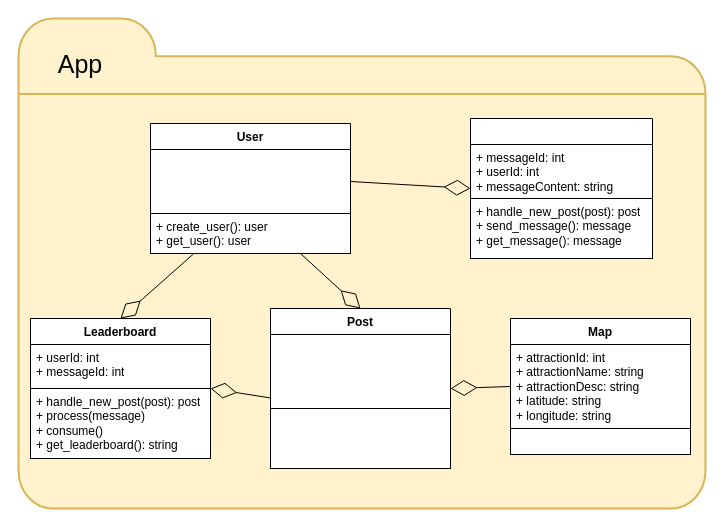
Some shapes in this 723 by 526 pixel diagram are drawn without their labels. The shapes that lost their labels are listed below. From the top down, each one's box as (x1, y1, x2, y2) in pixels, then its label:
(150, 148, 350, 214): + userId: int + userEmail: string + userPassword: encrypted_string
(470, 118, 652, 258): Chat
(270, 334, 450, 408): + postId: int + userId: int + attractionId: int + postContent: string
(270, 408, 450, 468): + create_post(): post + get_posts(): list + delivered(err, msg): boolean
(510, 428, 690, 454): + get_map(): attraction
